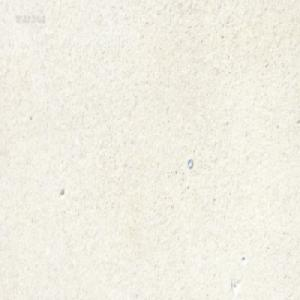Washer: (186, 158, 193, 169)
